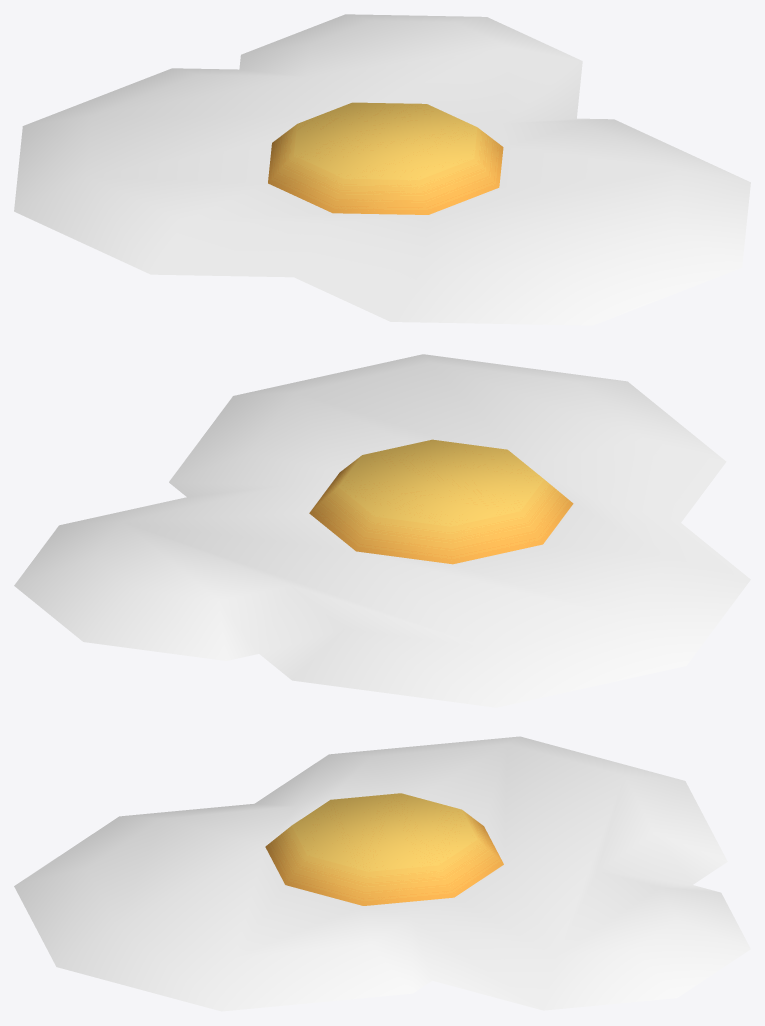
The model's file is egg-cooked.glb.
The picture shows the model from 3 angles, top to bottom: view 1: azimuth 30°, elevation 25°; view 2: azimuth 150°, elevation 25°; view 3: azimuth 270°, elevation 25°; orthographic projection. The views are drawn at different scales.
Parts seen in each view (by area): view 1: egg-cooked; view 2: egg-cooked; view 3: egg-cooked.
Part boxes in pixels (bbox=[...]): egg-cooked: bbox=[14, 14, 750, 325]; egg-cooked: bbox=[14, 354, 750, 707]; egg-cooked: bbox=[14, 736, 750, 1011].
Bounding box in the file's own units: 0.7172 × 0.0564 × 0.812.
1 material, 1 textured.
